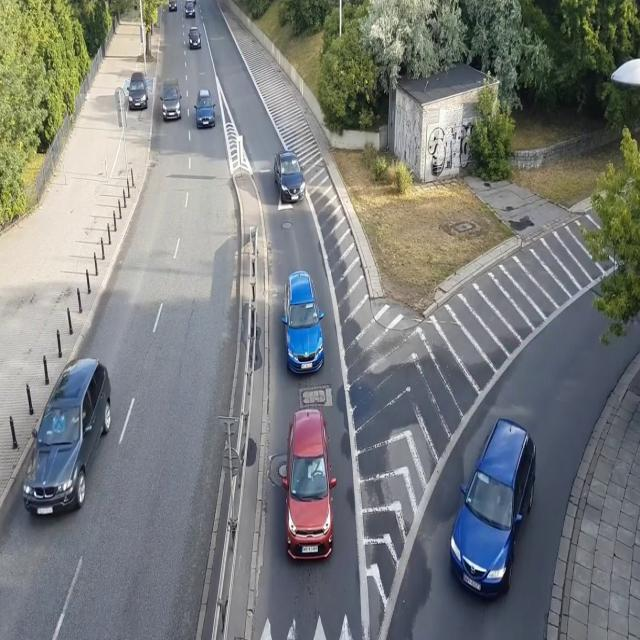car: (448, 416, 536, 602), (21, 355, 112, 518), (280, 408, 338, 564), (281, 268, 325, 378), (273, 148, 307, 201), (193, 89, 216, 130), (127, 72, 148, 111), (188, 26, 202, 49), (184, 0, 195, 19), (168, 0, 177, 11), (186, 0, 196, 5)
van: (160, 76, 182, 120)
